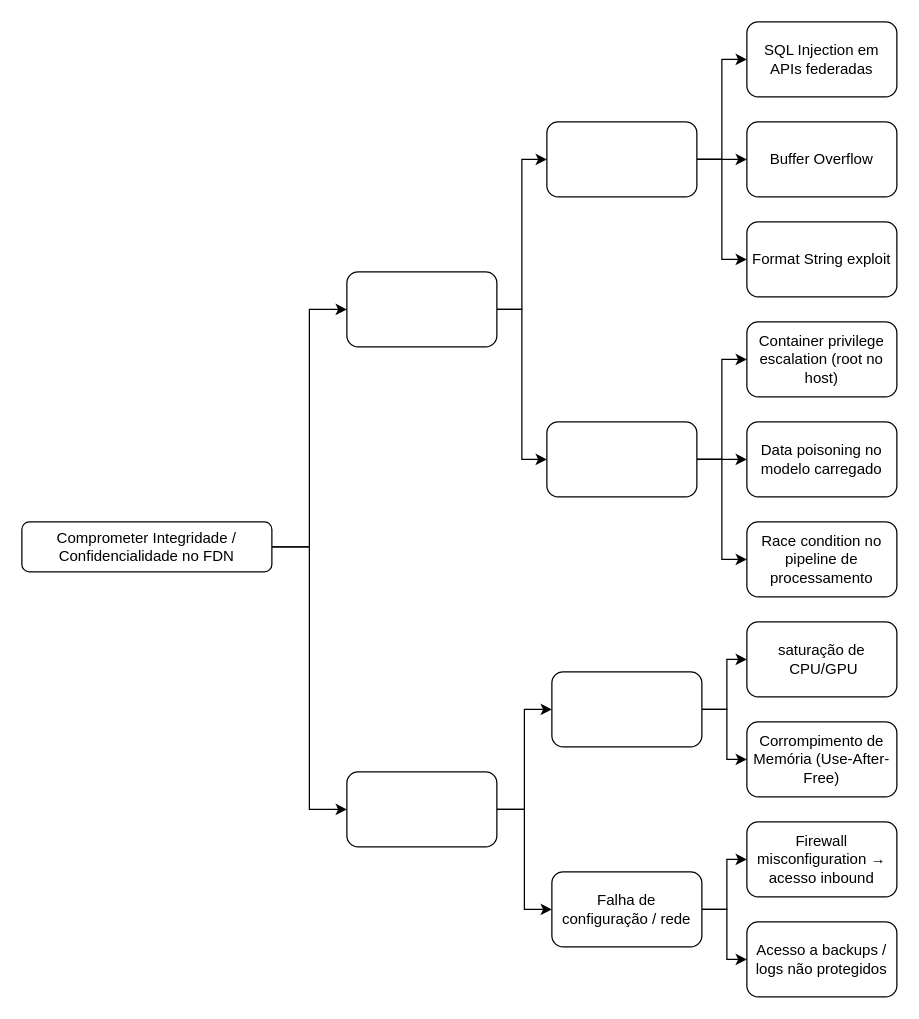
This 919x1019 diagram has some shape labels left out. Each missing label, with the centre of its shape:
Comprometer a disponibilidade / integridade operacional: pixel 421 809
Comprometer Ferramenta de IA no container: pixel 621 459
Injetar carga útil maliciosa: pixel 621 159
Inserir / Executar código malicioso no FDN: pixel 421 309
Negação de Serviço no FDN: pixel 626 709
